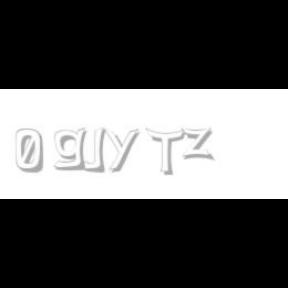0: (16, 128, 46, 174)
J: (80, 128, 106, 172)
T: (145, 128, 185, 176)
g: (54, 128, 90, 171)
y: (103, 128, 143, 172)
z: (180, 128, 216, 160)
